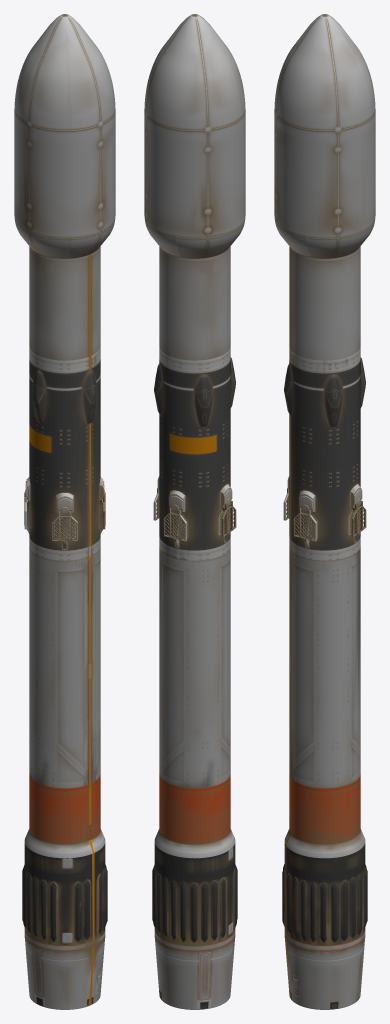
File: SM_Rocket02.fbx
3 renders of one model, left to right at view 1: azimuth 90°, elevation 25°; view 2: azimuth 150°, elevation 25°; view 3: azimuth 330°, elevation 25°, orthographic.
Parts seen in each view (by area): view 1: SM_Rocket02_LOD0; view 2: SM_Rocket02_LOD0; view 3: SM_Rocket02_LOD0.
Part boxes in pixels (left/top/right/bottom): SM_Rocket02_LOD0: left=14, top=14, right=115, bottom=1009; SM_Rocket02_LOD0: left=144, top=14, right=245, bottom=1009; SM_Rocket02_LOD0: left=274, top=14, right=375, bottom=1009.
Bounding box in the file's own units: 1419 × 1419 × 15176.
4 materials, 4 textured.
